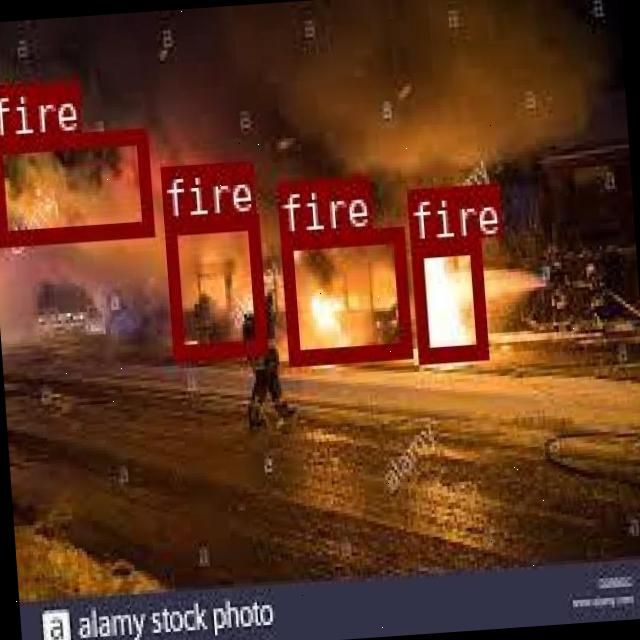fire: (278, 224, 409, 361), (0, 127, 150, 242), (164, 212, 264, 356), (408, 234, 486, 360)
